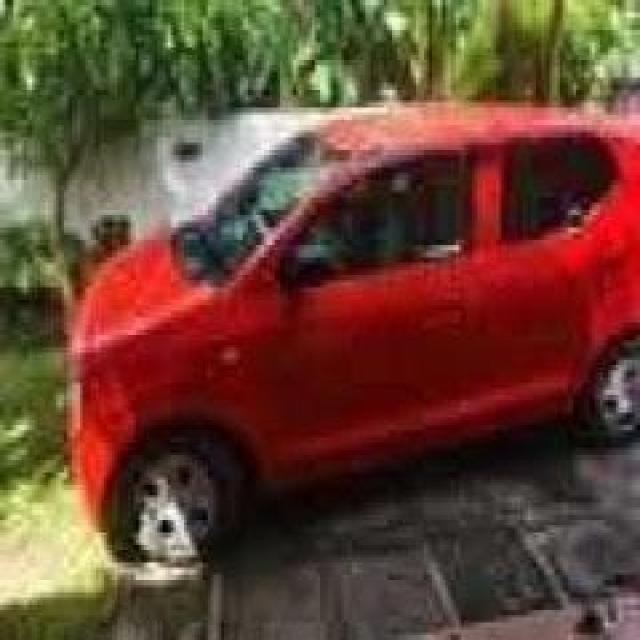car: (24, 52, 640, 590)
